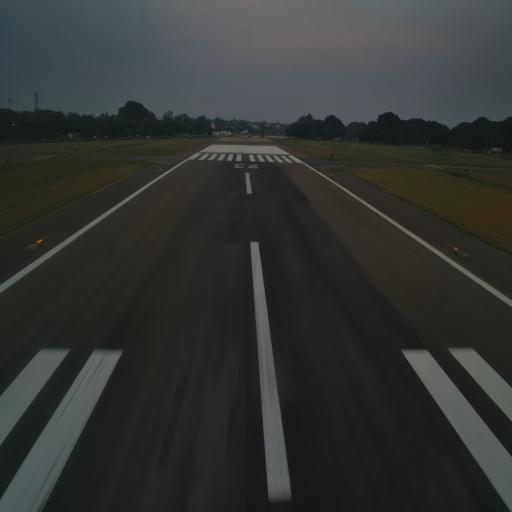on: (452, 242, 460, 254), (35, 236, 43, 248)
